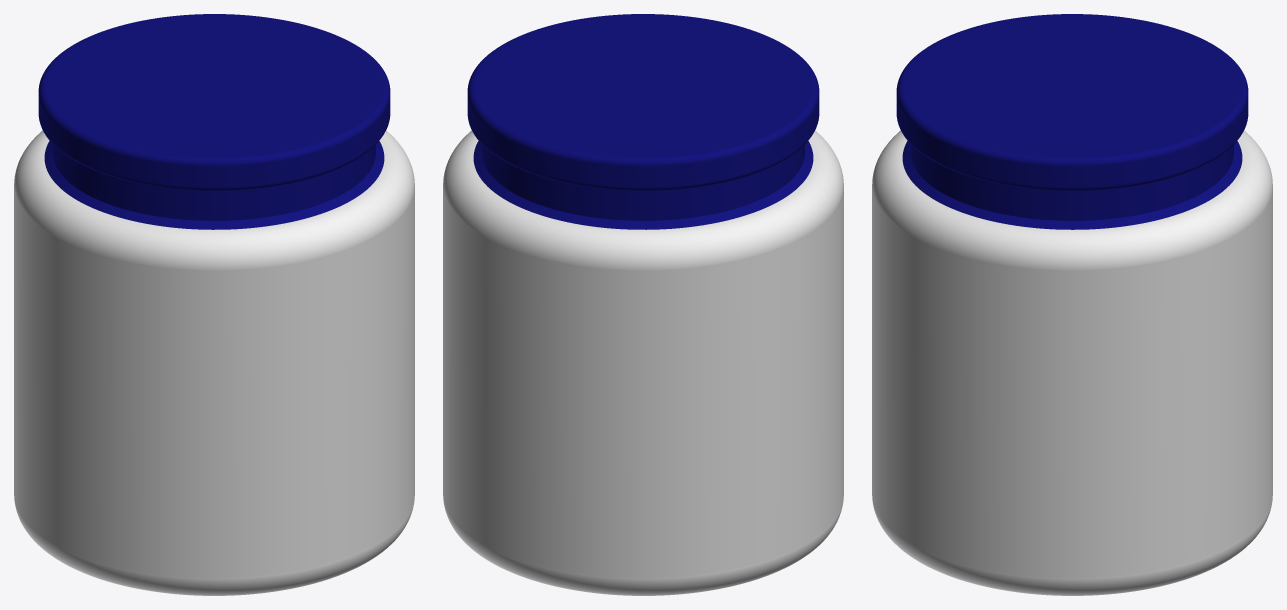
The model's file is USN_Bottle_fucked_UV.fbx.
The picture shows the model from 3 angles, left to right: view 1: azimuth 30°, elevation 25°; view 2: azimuth 150°, elevation 25°; view 3: azimuth 270°, elevation 25°; orthographic projection.
Parts seen in each view (by area): view 1: Cylinder; view 2: Cylinder; view 3: Cylinder.
Boxes of the visible parts, box(x1,y1,x2,y2) form: Cylinder: box(14, 14, 414, 595); Cylinder: box(443, 14, 843, 595); Cylinder: box(872, 14, 1272, 595).
Size of the model in its own units: 2 by 2.4 by 2.
